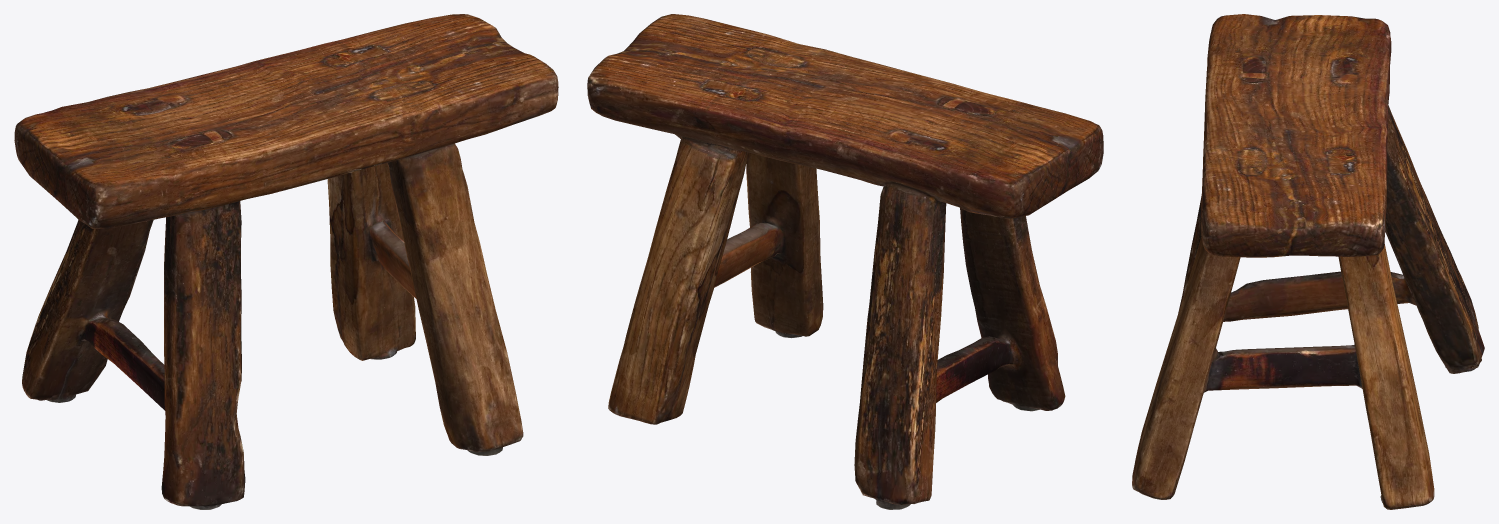
The model's file is ph_wooden_stool_02_hi.glb.
3 views of the same model, side by side, from view 1: azimuth 30°, elevation 25°; view 2: azimuth 150°, elevation 25°; view 3: azimuth 270°, elevation 25° (orthographic). The views are drawn at different scales.
Visible parts, largest first — view 1: wooden_stool_02; view 2: wooden_stool_02; view 3: wooden_stool_02.
Part boxes in pixels (box(x1,y1,x2,y2)): wooden_stool_02: box(14, 14, 558, 509); wooden_stool_02: box(587, 14, 1103, 509); wooden_stool_02: box(1132, 14, 1484, 509).
Bounding box in the file's own units: 0.2652 × 0.182 × 0.1831.
Materials: 1 (1 with a texture image).
